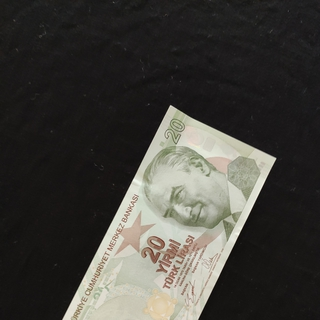20TLFront: (56, 104, 276, 320)
